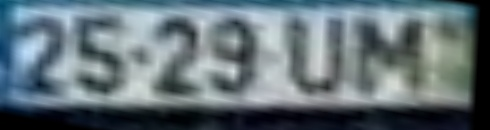2: (149, 16, 212, 106), (16, 16, 76, 101)
5: (70, 16, 136, 104)
9: (206, 17, 266, 100)
M: (354, 16, 435, 106)
U: (284, 16, 354, 105)
